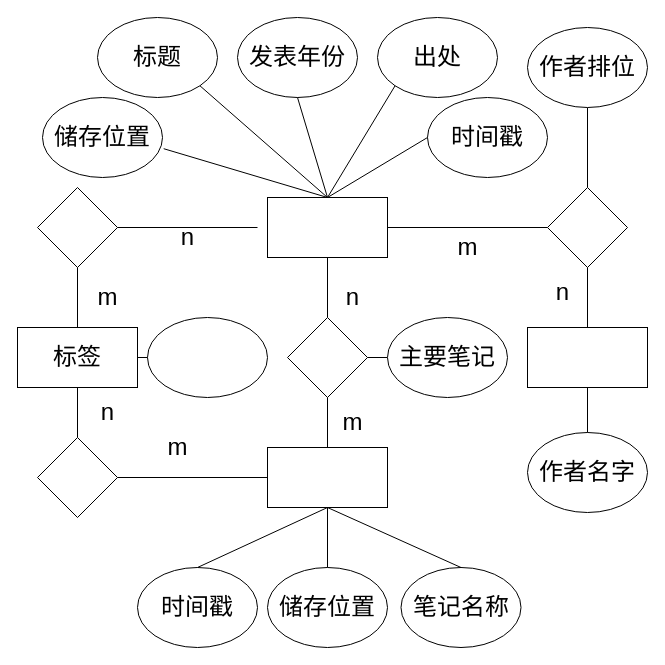
The diagram is 665 pixels wide and 665 high, and some of its shapes have lost their labels. The centre of each missing label's shape, as x and y in pixels:
作者: point (587, 357)
标签名称: point (207, 357)
笔记: point (327, 477)
论文: point (327, 227)
